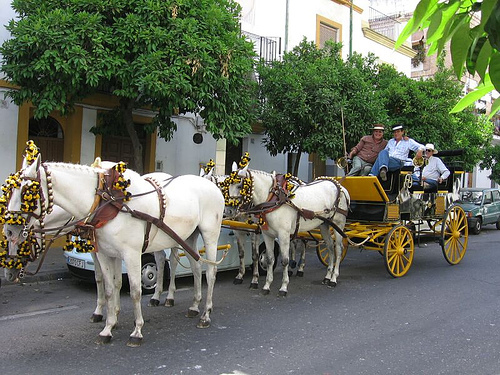horse: (1, 149, 226, 349), (223, 159, 353, 298)
